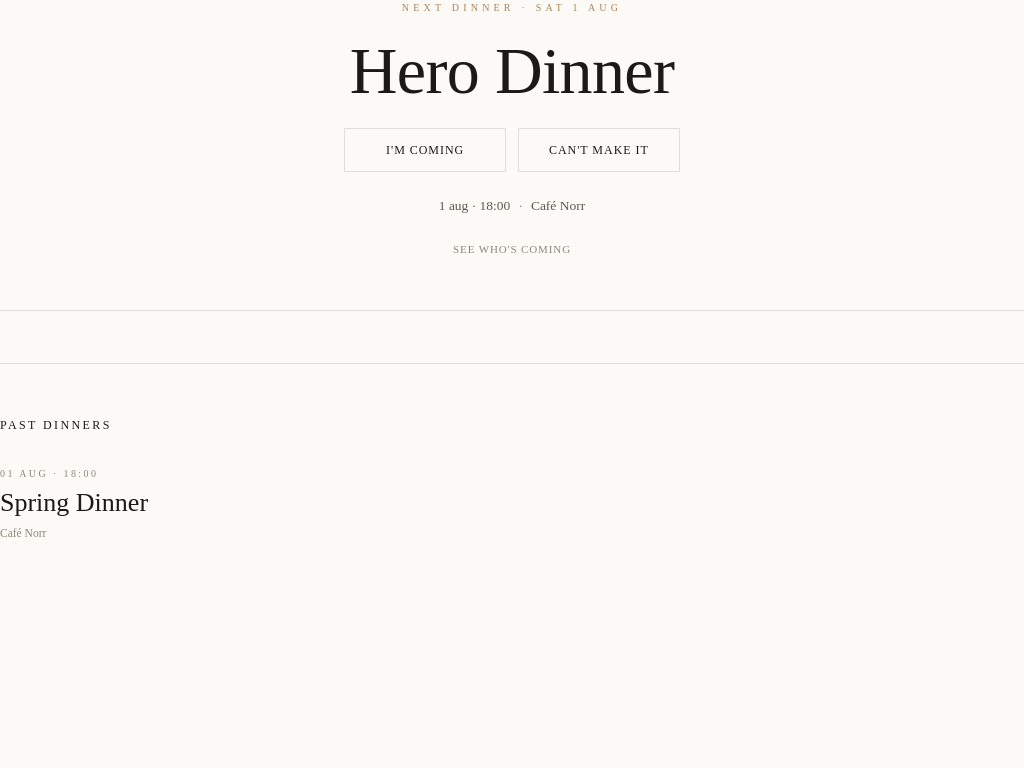
Test: DinnersGallery Component › opens a past dinner's dialog without any RSVP controls
The image size is (1024, 768).
What coordinates should you click on to do the following:
click the button "01 AUG · 18:00 Spring Dinner Café Norr"
I would click on:
 (49, 474)
Its box is [0,466,317,542].
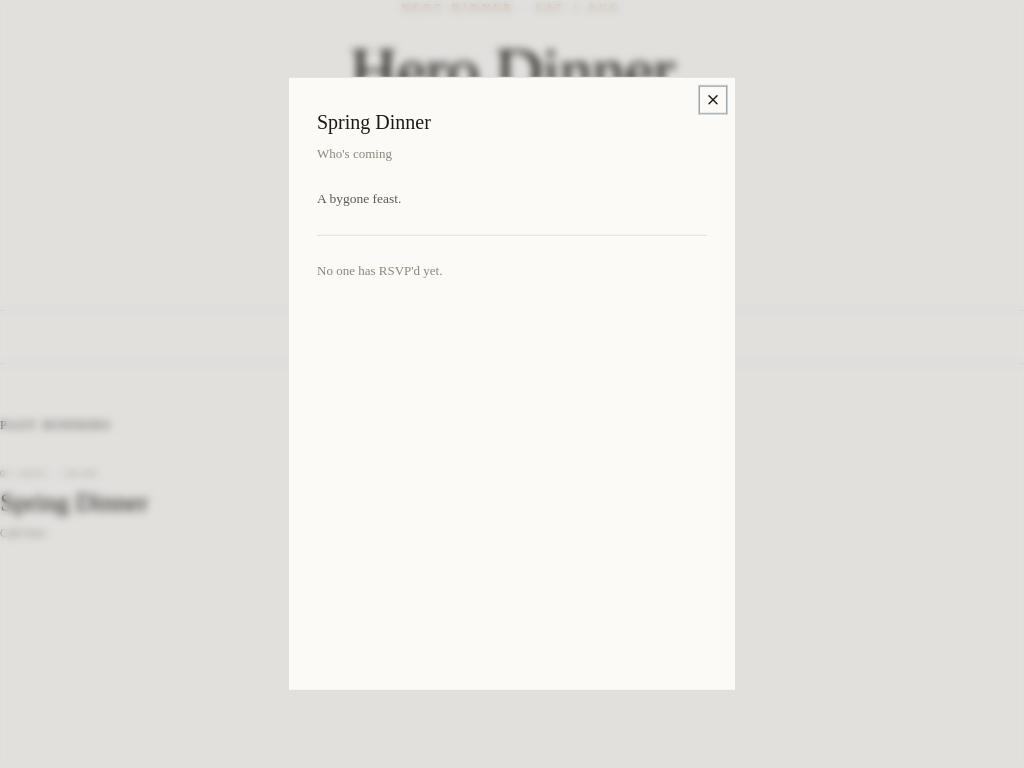
Expected: the text "A bygone feast." is shown, [317,190,401,205]
